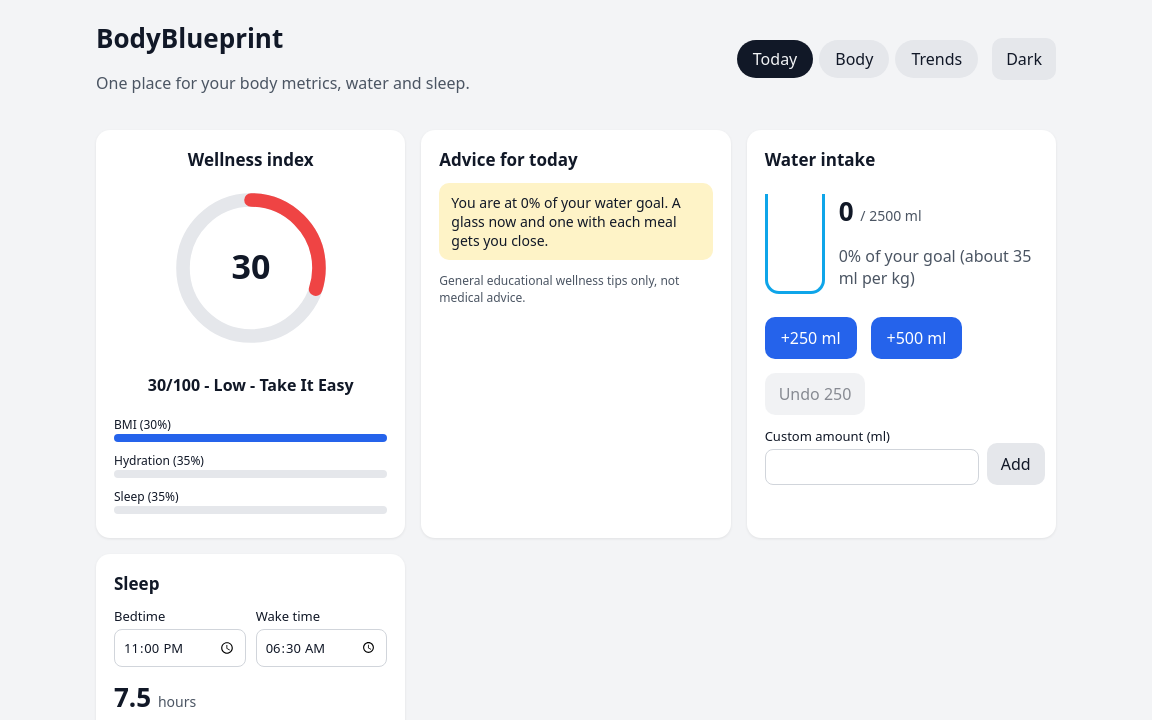
Test: Body tab › shows field errors for empty or out-of-range input and does not save
Click the tab "Body": {"x": 854, "y": 59} [819,40,889,78]
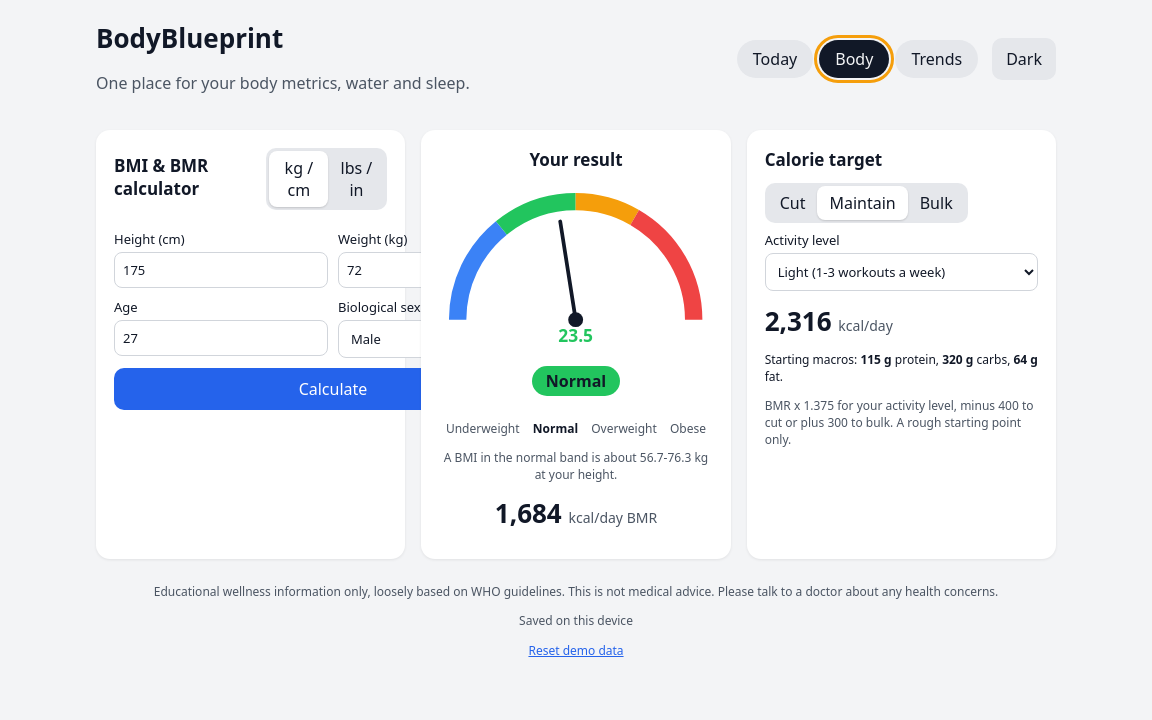
Clear the number field labelled "Height (cm)": {"x": 221, "y": 270} [114,252,328,288]
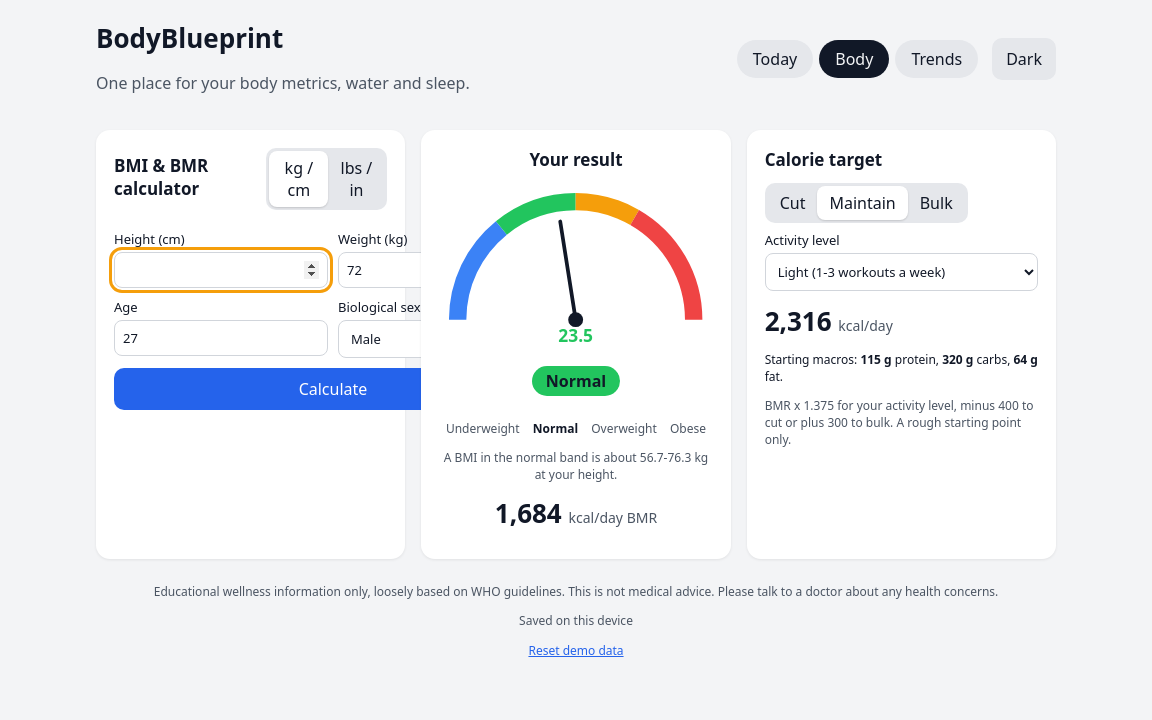
Click the button "Calculate": {"x": 333, "y": 389} [114,368,552,410]
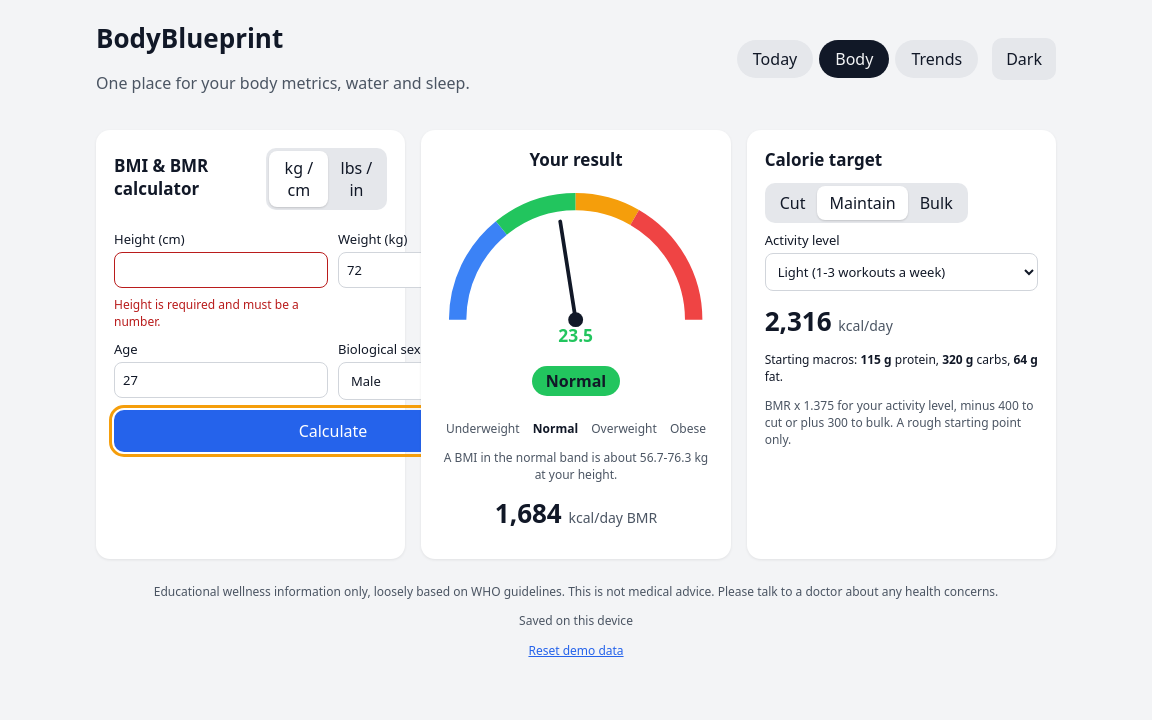
Result: the text "Height is required and must be a number." is shown at [114,296,328,330]
In the number field labelled "Height (cm) Height is required and must be a number.": {"x": 221, "y": 270} [114,252,328,288], type "30"
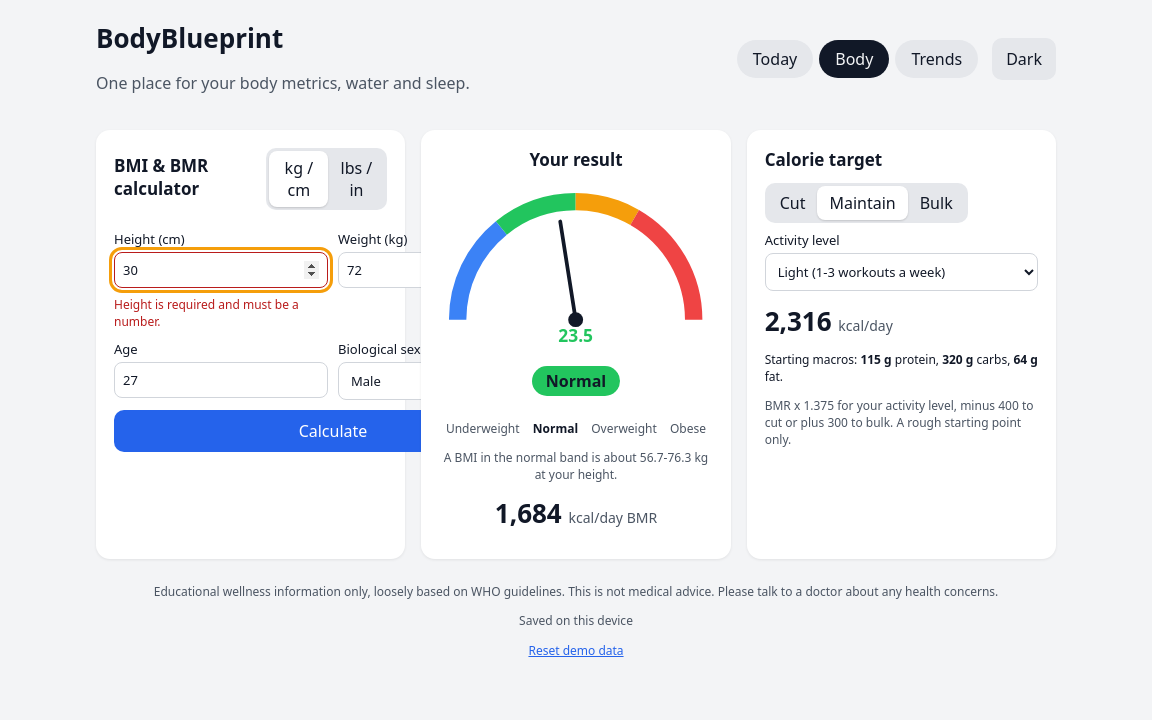
Click the button "Calculate": {"x": 333, "y": 431} [114,410,552,452]
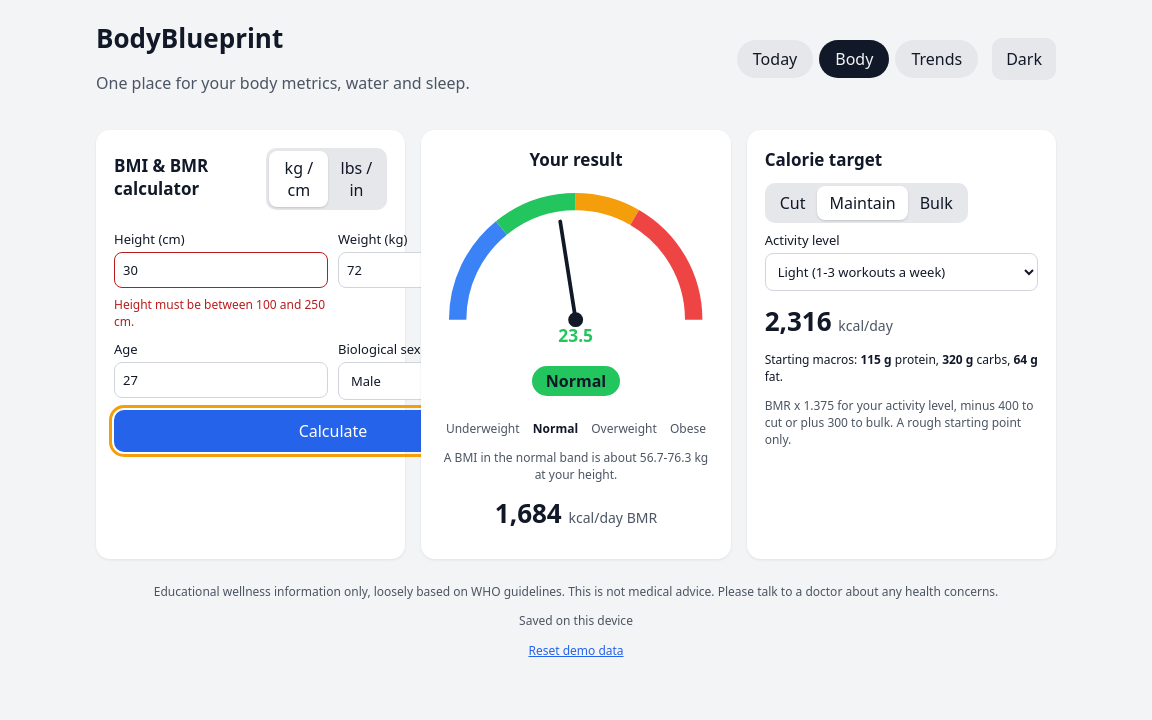
Result: the text "Height must be between 100 and 250 cm." is shown at [114,296,328,330]
